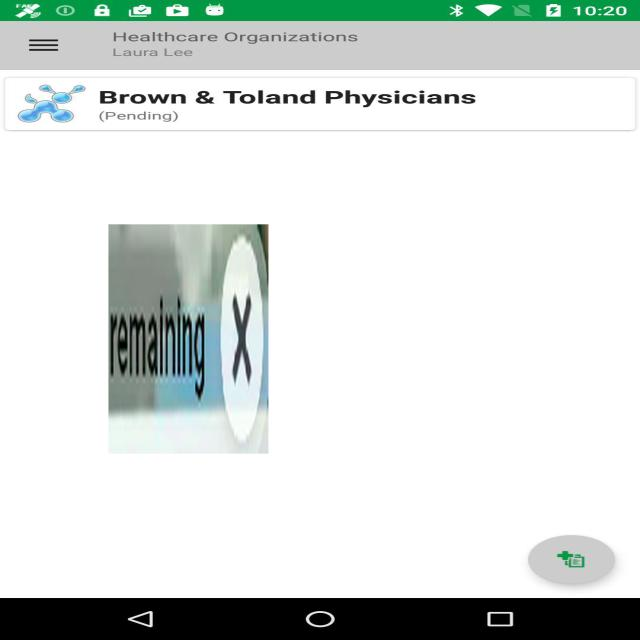misdirection: (109, 224, 268, 454)
